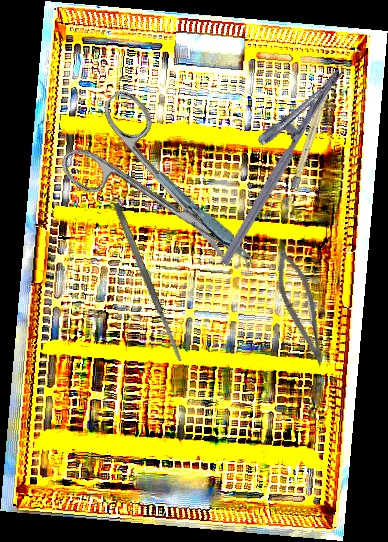Iris Scissors: (50, 85, 265, 298)
Micro Scissor: (264, 243, 341, 372)
Needle Holder: (192, 51, 346, 267)
Scalpel Handle: (290, 67, 337, 189)
Spatula Surgical: (111, 202, 185, 363)
Tissue Forceps: (155, 161, 257, 279)
